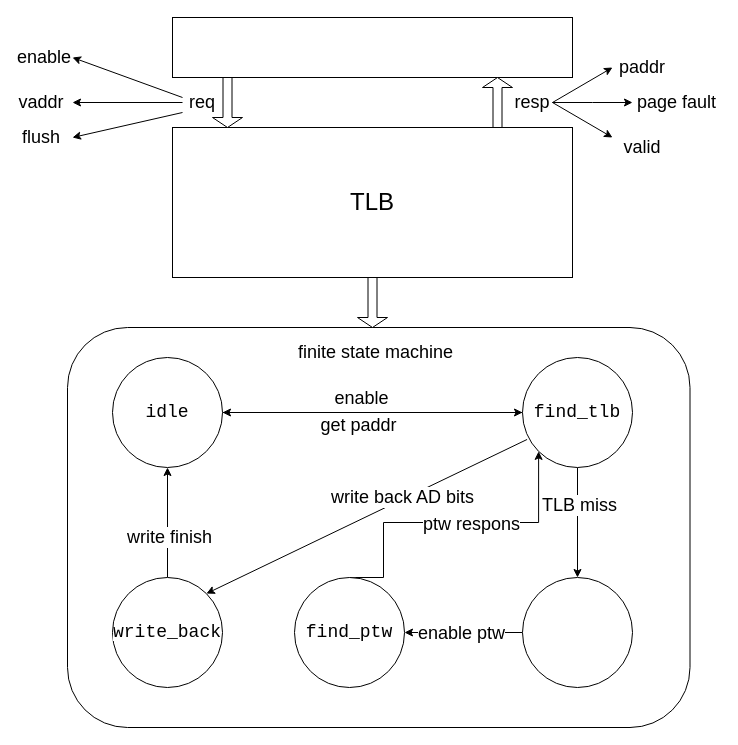
Some shapes in this 738 by 745 pixel diagram are drawn without their labels. The centre of each missing label's shape, as x and y in pixels:
"find_entry" belongs at [577,632].
"MMU" belongs at [372,47].
